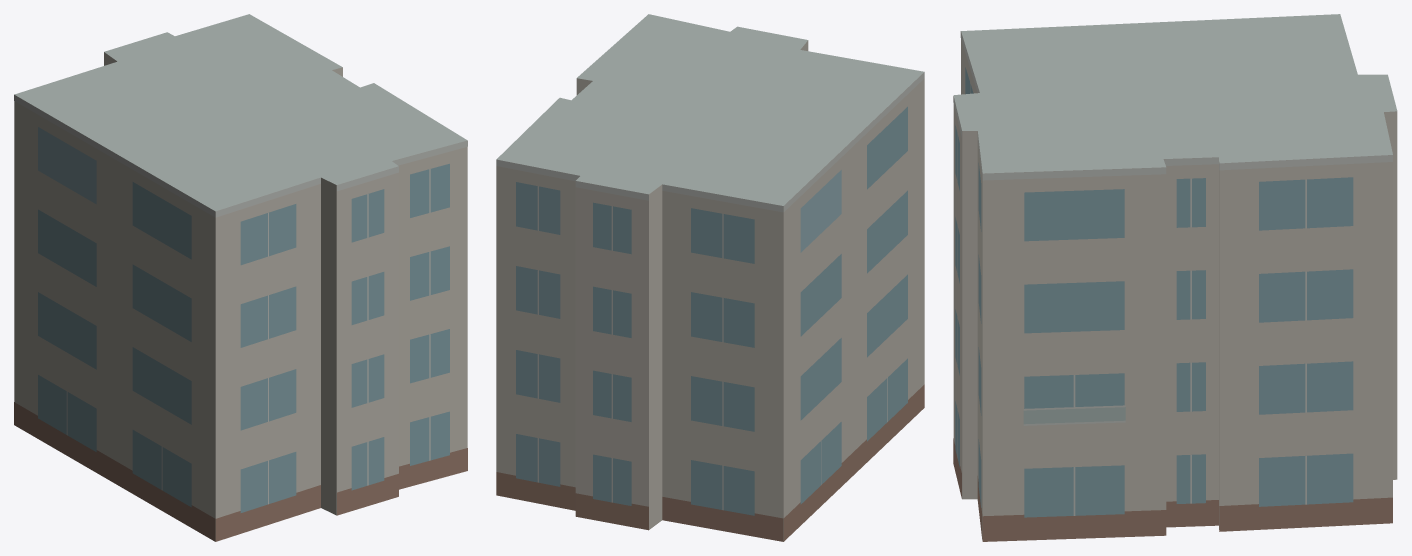
Rendered from survey-upis-32667097.glb.
3 renders of one model, left to right at view 1: azimuth 30°, elevation 25°; view 2: azimuth 150°, elevation 25°; view 3: azimuth 270°, elevation 25°, orthographic. The views are drawn at different scales.
Parts seen in each view (by area): view 1: survey-upis-32667097.tmp; view 2: survey-upis-32667097.tmp; view 3: survey-upis-32667097.tmp.
Part boxes in pixels (x1,y1,x2,y2): survey-upis-32667097.tmp: [14, 14, 467, 541]; survey-upis-32667097.tmp: [496, 14, 924, 541]; survey-upis-32667097.tmp: [953, 14, 1397, 541].
Bounding box in the file's own units: 11.9 × 12.8 × 13.99.
